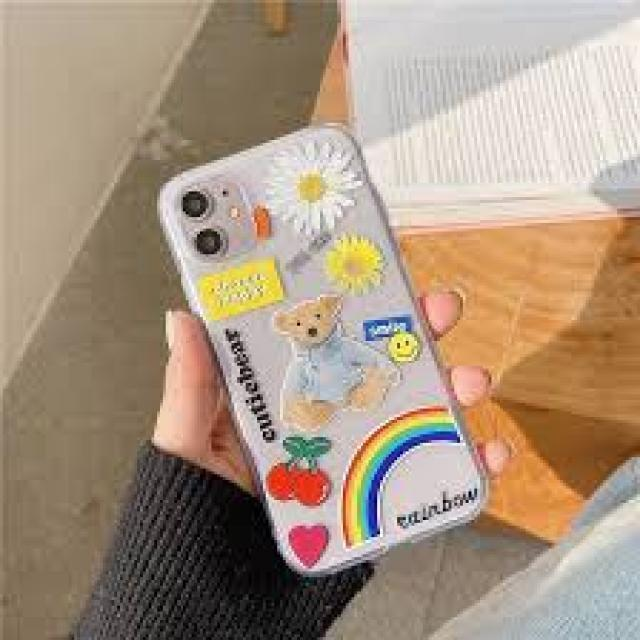lens: (179, 179, 239, 259)
phone: (158, 119, 494, 578)
